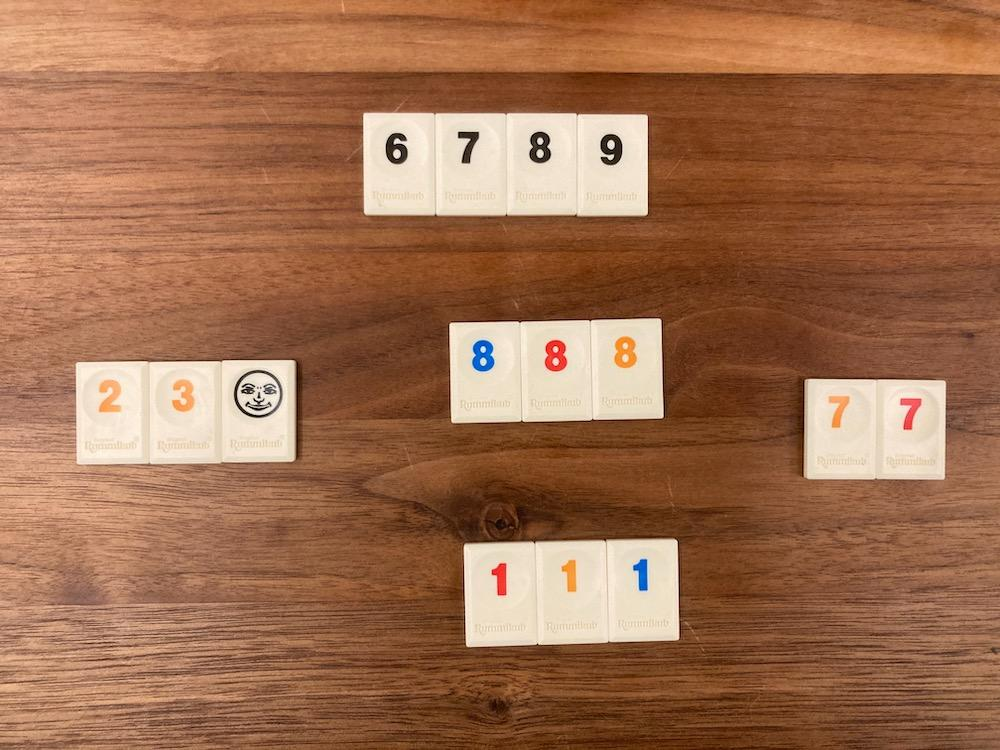black_6: (365, 113, 434, 215)
black_7: (436, 113, 506, 215)
black_8: (508, 113, 576, 215)
black_9: (576, 115, 648, 215)
blue_1: (609, 539, 678, 641)
blue_8: (451, 322, 520, 422)
joker: (223, 361, 295, 462)
orange_1: (536, 542, 609, 643)
orange_2: (76, 363, 148, 463)
orange_3: (150, 363, 221, 461)
orange_7: (803, 382, 877, 479)
orange_8: (590, 320, 663, 419)
red_1: (465, 541, 536, 646)
red_7: (875, 382, 945, 479)
red_8: (522, 322, 591, 421)
